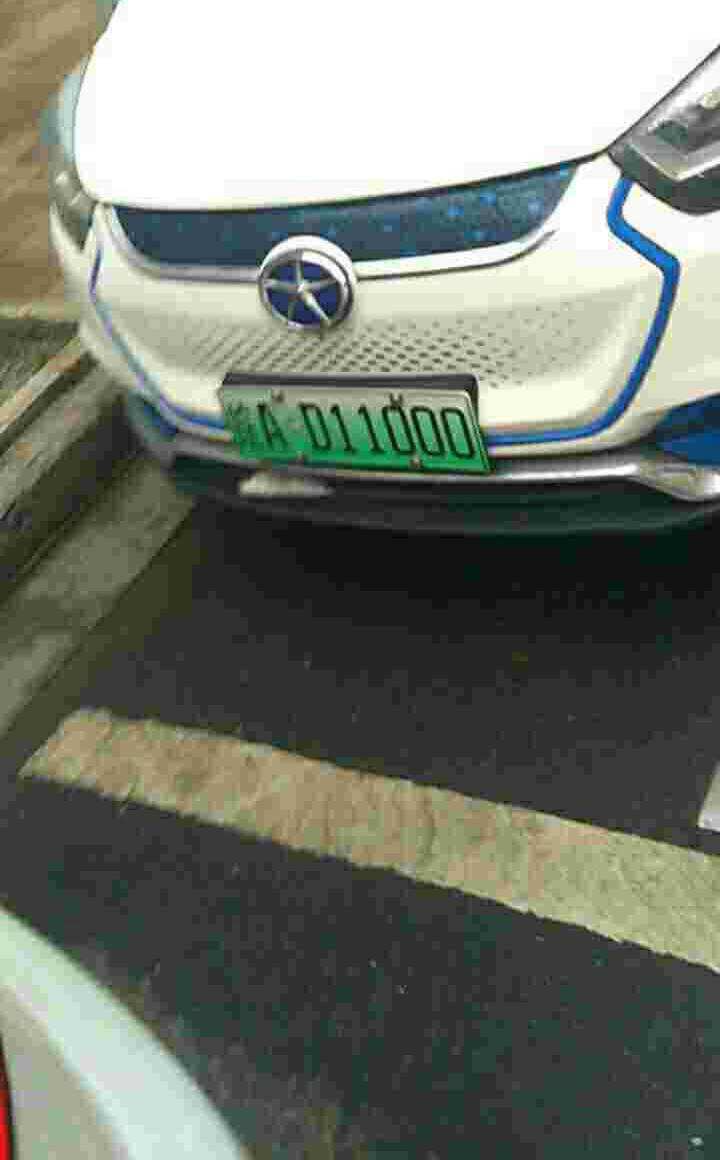car: (218, 380, 489, 478)
